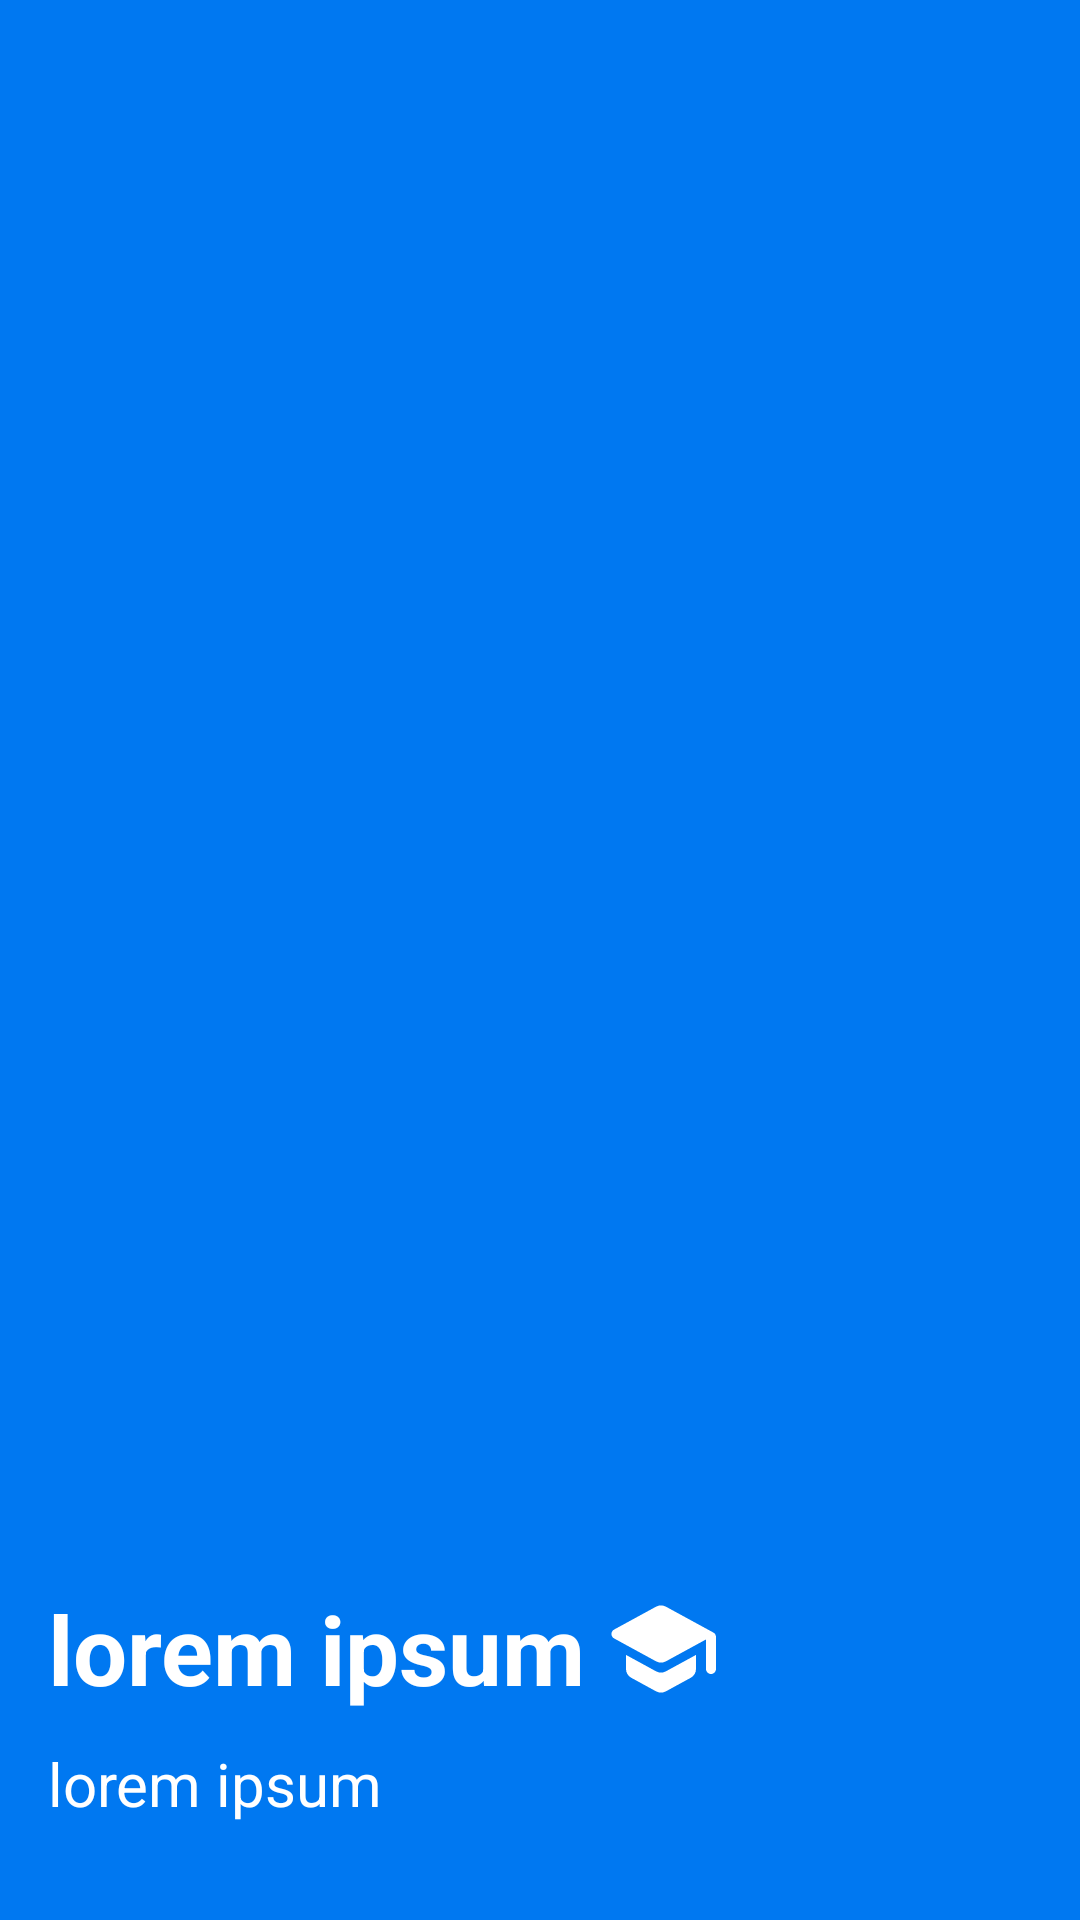

Icon click points for this 1080 × 1920 phone screenshot, format [x,y]:
school: [663,1649]
